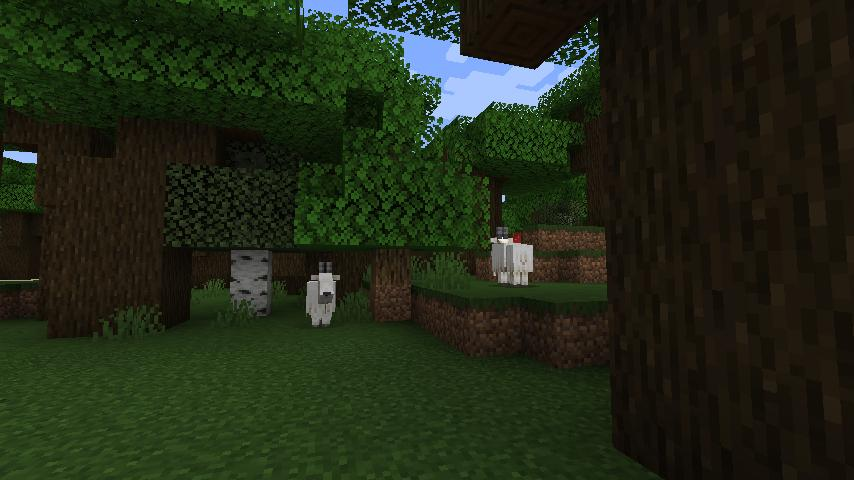goat: (488, 226, 536, 289), (304, 260, 341, 328)
